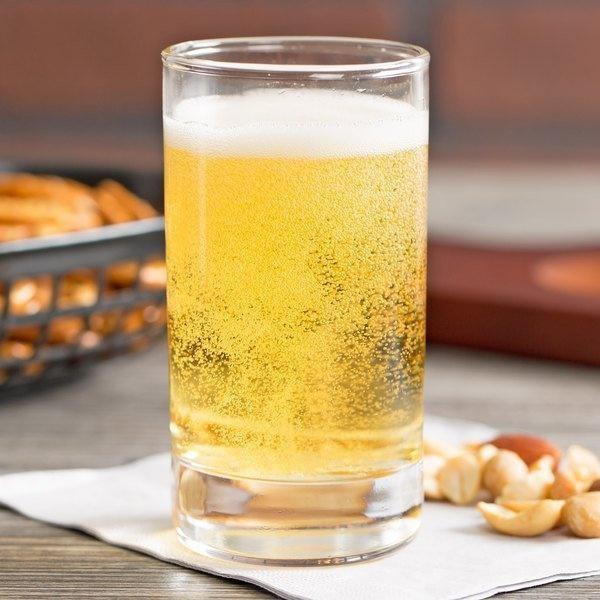glass-normal: (159, 36, 434, 568)
